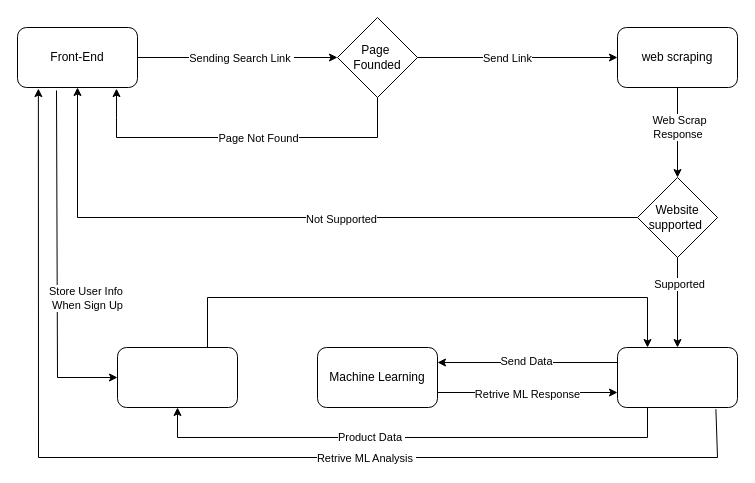
Some shapes in this 755 by 483 pixel diagram are drawn without their labels. The centre of each missing label's shape, as x and y in pixels:
Back-End Storage: point 177,377
Server: point 677,377
